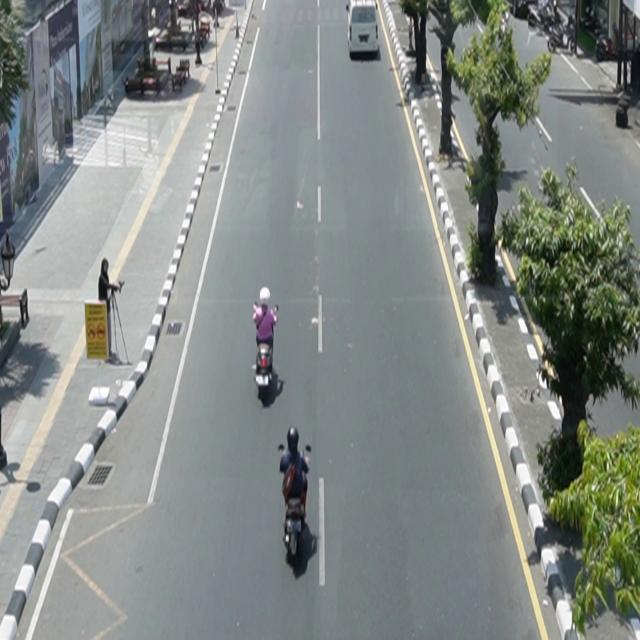car: (346, 1, 379, 58)
